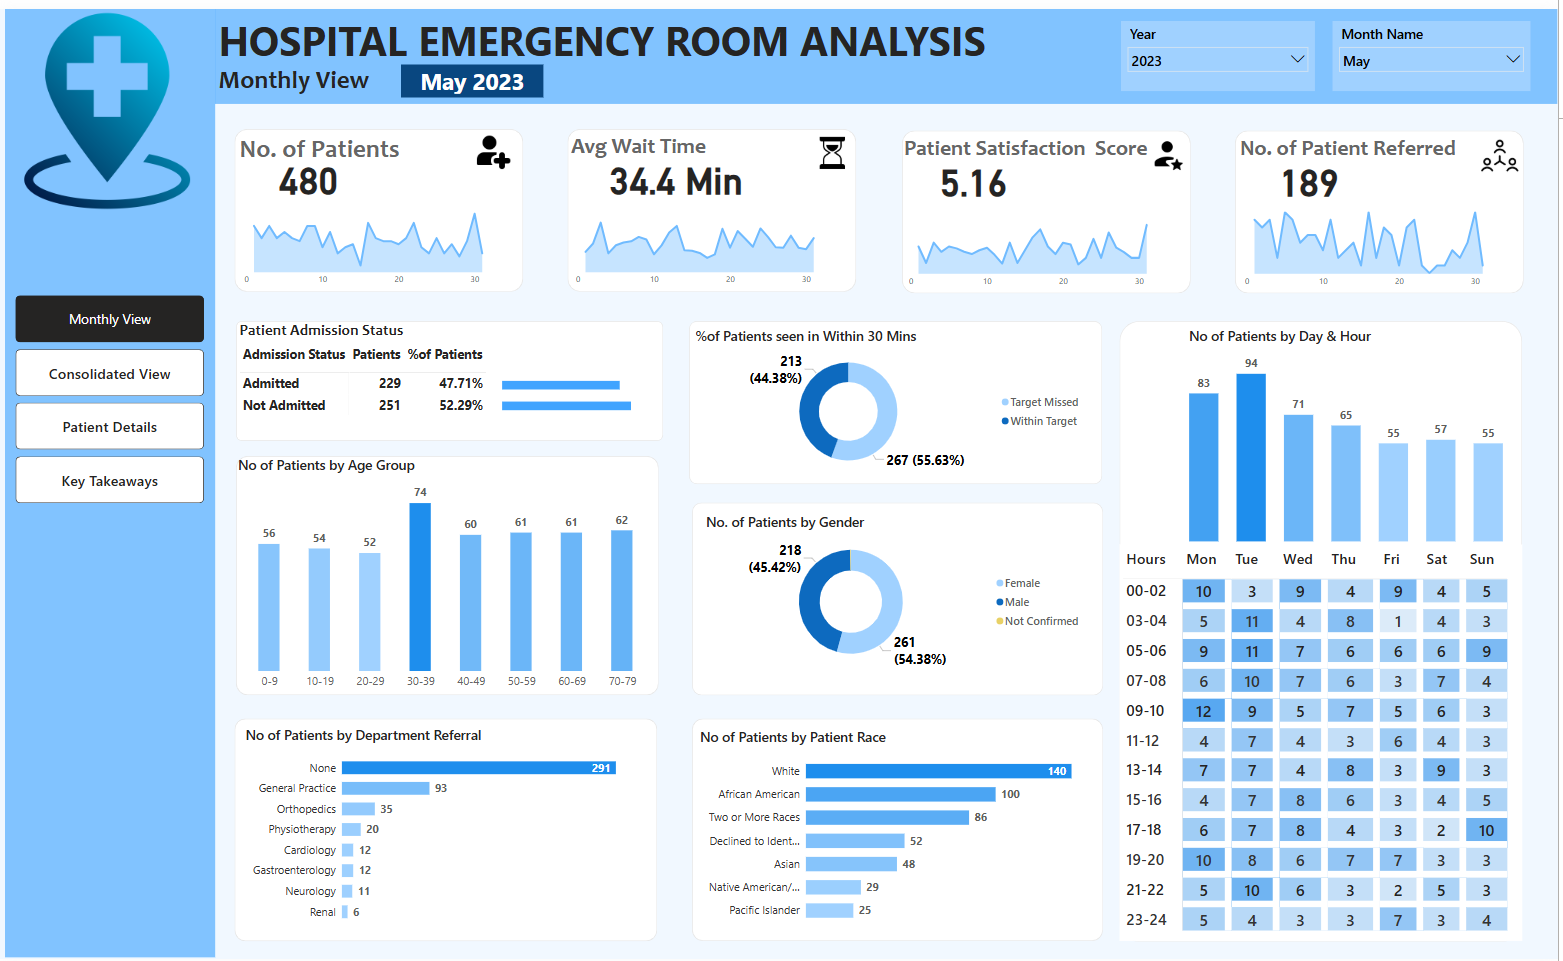

The page's visual inventory and layout, read from the dashboard file:
{"tool":"powerbi","page":{"name":"Monthly View","canvas":[2300,1400],"ordinal":0},"visuals":[{"type":"shape","box":[1018.8,459.4,609.4,240.6],"z":0},{"type":"shape","box":[349.7,459.2,630,177],"z":1000},{"type":"shape","box":[346.7,176.4,425.7,240.2],"z":2000},{"type":"shape","box":[9.1,0,310,1398.9],"z":3000},{"type":"shape","box":[319.3,0,1979.7,140],"z":4000},{"type":"textbox","box":[319.3,0,1216.4,97.3],"z":5000},{"type":"textbox","box":[319.3,76,273.7,57.8],"z":6000},{"type":"card","fields":{"Values":["Hospital ER_Data.No of Patients"]},"box":[398.4,209.8,115.6,73],"z":7000},{"type":"slicer","fields":{"Values":["DateTable.Year"]},"box":[1654.3,18.2,285.9,103.4],"z":8000},{"type":"slicer","fields":{"Values":["DateTable.Month Name"]},"box":[1967.5,18.2,291.9,103.4],"z":9000},{"type":"textbox","box":[349.7,176.4,270.6,63.9],"z":10000},{"type":"areaChart","fields":{"Category":["DateTable.Date.Variation.Date Hierarchy.Day"],"Y":["Hospital ER_Data.No of Patients"]},"box":[349.7,282.8,422.7,133.8],"z":11000},{"type":"card","fields":{"Values":["Min(DateTable.MonthYear)"]},"box":[593,82.1,209.8,48.7],"z":12000},{"type":"shape","box":[838.5,176.2,425.7,240.2],"z":13000},{"type":"card","fields":{"Values":["Hospital ER_Data.Avg Wait Time"]},"box":[888,209.8,222,73],"z":14000},{"type":"textbox","box":[838.2,176.2,270.6,63.9],"z":15000},{"type":"areaChart","fields":{"Category":["DateTable.Date.Variation.Date Hierarchy.Day"],"Y":["Avg(Hospital ER_Data.Patient Waittime)"]},"box":[838.2,282.7,422.7,133.8],"z":16000},{"type":"shape","box":[1332.4,178.1,425.7,240.2],"z":17000},{"type":"card","fields":{"Values":["Hospital ER_Data.Avg Patient Satisfaction Score"]},"box":[1377.3,211.6,115.6,73],"z":18000},{"type":"textbox","box":[1328.9,179.4,422.7,60.8],"z":19000},{"type":"areaChart","fields":{"Category":["DateTable.Date.Variation.Date Hierarchy.Day"],"Y":["Hospital ER_Data.Avg Patient Satisfaction Score"]},"box":[1328.6,284.6,422.7,133.8],"z":20000},{"type":"shape","box":[1822.2,180,425.7,240.2],"z":21000},{"type":"card","fields":{"Values":["Hospital ER_Data.No. of Patient Referred"]},"box":[1873.9,213.5,115.6,73],"z":22000},{"type":"textbox","box":[1824.6,179.4,422.7,63.9],"z":23000},{"type":"areaChart","fields":{"Category":["DateTable.Date.Variation.Date Hierarchy.Day"],"Y":["Hospital ER_Data.No. of Patient Referred"]},"box":[1825.2,286.5,422.7,133.8],"z":24000},{"type":"pivotTable","title":"Patient Admission Status","fields":{"Rows":["Hospital ER_Data.Admission Status"],"Values":["Hospital ER_Data.No of Patients1","Hospital ER_Data.No of Patients"]},"box":[349.7,459.2,513.9,176.4],"z":25000},{"type":"clusteredBarChart","fields":{"Category":["Hospital ER_Data.Admission Status"],"Y":["Hospital ER_Data.No of Patients"]},"box":[735.9,520,237.2,94.3],"z":26000},{"type":"shape","box":[349.7,659.9,623.4,352.8],"z":27000},{"type":"clusteredColumnChart","fields":{"Category":["Hospital ER_Data.Age Group"],"Y":["Hospital ER_Data.No of Patients"]},"box":[346.7,659.9,623.4,352.8],"z":28000},{"type":"shape","box":[346.7,1046.1,623.4,328.4],"z":29000},{"type":"clusteredBarChart","fields":{"Category":["Hospital ER_Data.Department Referral"],"Y":["Hospital ER_Data.No of Patients"]},"box":[358.8,1058.3,590,301.1],"z":30000},{"type":"donutChart","title":"%of Patients seen in Within 30 Mins","fields":{"Category":["Hospital ER_Data.Waittime Status"],"Y":["Hospital ER_Data.No of Patients"]},"box":[1021.9,468.8,584.4,221.9],"z":31000},{"type":"shape","box":[1021.9,728.1,606.2,284.4],"z":32000},{"type":"donutChart","title":"No. of Patients by Gender","fields":{"Y":["Hospital ER_Data.No of Patients"],"Category":["Hospital ER_Data.Patient Gender"]},"box":[1037.5,743.8,568.8,234.4],"z":33000},{"type":"shape","box":[1021.9,1046.9,606.2,328.1],"z":34000},{"type":"clusteredBarChart","fields":{"Y":["Hospital ER_Data.No of Patients"],"Category":["Hospital ER_Data.Patient Race"]},"box":[1028.1,1059.4,590.6,300],"z":35000},{"type":"shape","box":[1653.1,459.4,593.8,915.6],"z":36000},{"type":"pivotTable","fields":{"Rows":["Hospital ER_Data.Waittime Interval"],"Columns":["DateTable.Day Name"],"Values":["Hospital ER_Data.No of Patients"]},"box":[1653.1,790.6,593.8,584.4],"z":37000},{"type":"columnChart","title":"No of Patients by Day & Hour","fields":{"Category":["DateTable.Day Name"],"Y":["Hospital ER_Data.No of Patients"]},"box":[1750,468.8,475,321.9],"z":38000},{"type":"image","box":[0,0,318.8,300],"z":38001},{"type":"image","box":[696.9,181.2,65.6,59.4],"z":38002},{"type":"image","box":[1200,175,59.4,75],"z":38003},{"type":"image","box":[1690.6,184.4,65.6,59.4],"z":38004},{"type":"image","box":[2178.1,184.4,68.8,65.6],"z":38005},{"type":"pageNavigator","box":[25,421.9,278.1,306.2],"z":38006}]}

Visuals, with their boxes in screenshot pixels (x1, y1, x2, y2), scaled from the page's 2300x1400 canvas onto the 1563x961 screenshot:
shape: 692 315 1106 480
shape: 238 315 666 437
shape: 236 121 525 286
shape: 6 0 217 960
shape: 217 0 1562 96
textbox: 217 0 1044 67
textbox: 217 52 403 92
card - Hospital ER_Data.No of Patients: 271 144 349 194
slicer - DateTable.Year: 1124 12 1318 83
slicer - DateTable.Month Name: 1337 12 1535 83
textbox: 238 121 422 165
areaChart - DateTable.Date.Variation.Date Hierarchy.Day x Hospital ER_Data.No of Patients: 238 194 525 286
card - Min(DateTable.MonthYear): 403 56 546 90
shape: 570 121 859 286
card - Hospital ER_Data.Avg Wait Time: 603 144 754 194
textbox: 570 121 754 165
areaChart - DateTable.Date.Variation.Date Hierarchy.Day x Avg(Hospital ER_Data.Patient Waittime): 570 194 857 286
shape: 905 122 1195 287
card - Hospital ER_Data.Avg Patient Satisfaction Score: 936 145 1015 195
textbox: 903 123 1190 165
areaChart - DateTable.Date.Variation.Date Hierarchy.Day x Hospital ER_Data.Avg Patient Satisfaction Score: 903 195 1190 287
shape: 1238 124 1528 288
card - Hospital ER_Data.No. of Patient Referred: 1273 147 1352 197
textbox: 1240 123 1527 167
areaChart - DateTable.Date.Variation.Date Hierarchy.Day x Hospital ER_Data.No. of Patient Referred: 1240 197 1528 289
"Patient Admission Status" pivotTable: 238 315 587 436
clusteredBarChart - Hospital ER_Data.Admission Status x Hospital ER_Data.No of Patients: 500 357 661 422
shape: 238 453 661 695
clusteredColumnChart - Hospital ER_Data.Age Group x Hospital ER_Data.No of Patients: 236 453 659 695
shape: 236 718 659 943
clusteredBarChart - Hospital ER_Data.Department Referral x Hospital ER_Data.No of Patients: 244 726 645 933
"%of Patients seen in Within 30 Mins" donutChart: 694 322 1092 474
shape: 694 500 1106 695
"No. of Patients by Gender" donutChart: 705 511 1092 671
shape: 694 719 1106 944
clusteredBarChart - Hospital ER_Data.No of Patients x Hospital ER_Data.Patient Race: 699 727 1100 933
shape: 1123 315 1527 944
pivotTable - Hospital ER_Data.Waittime Interval x DateTable.Day Name: 1123 543 1527 944
"No of Patients by Day & Hour" columnChart: 1189 322 1512 543
image: 0 0 217 206
image: 474 124 518 165
image: 815 120 856 172
image: 1149 127 1193 167
image: 1480 127 1527 172
pageNavigator: 17 290 206 500
